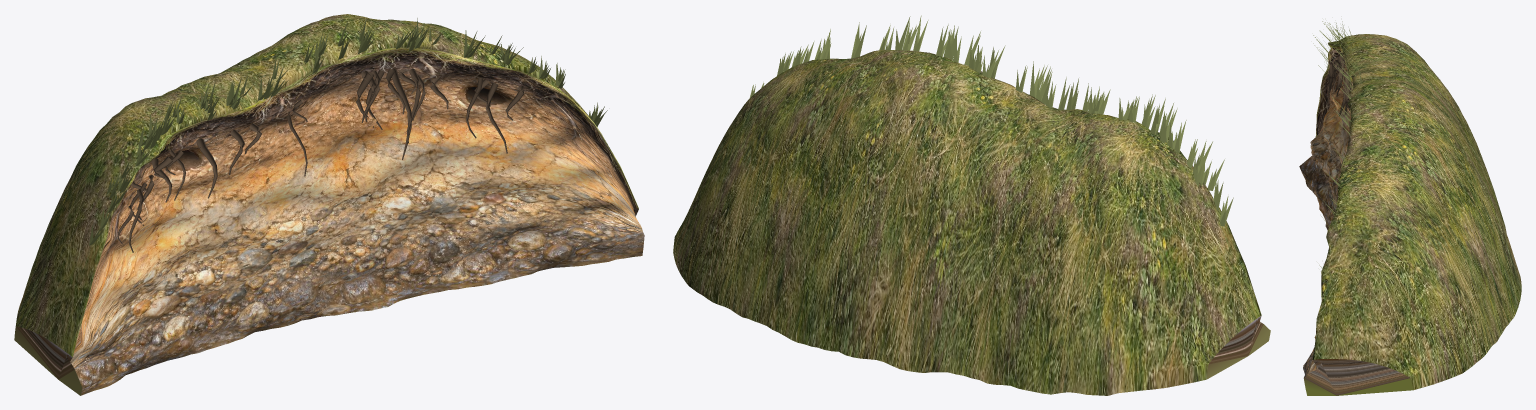
The model's file is stream-bank-v6.glb.
The picture shows the model from 3 angles, left to right: view 1: azimuth 30°, elevation 25°; view 2: azimuth 150°, elevation 25°; view 3: azimuth 270°, elevation 25°; orthographic projection. The views are drawn at different scales.
Parts seen in each view (by area): view 1: cut-bank; view 2: cut-bank; view 3: cut-bank.
Boxes of the visible parts, x1,y1,x2,y2 form: cut-bank: (14, 14, 644, 395); cut-bank: (673, 15, 1270, 395); cut-bank: (1299, 21, 1521, 395).
Size of the model in its own units: 1.6 by 0.7633 by 0.6777.
Materials: 4 (2 with a texture image).
